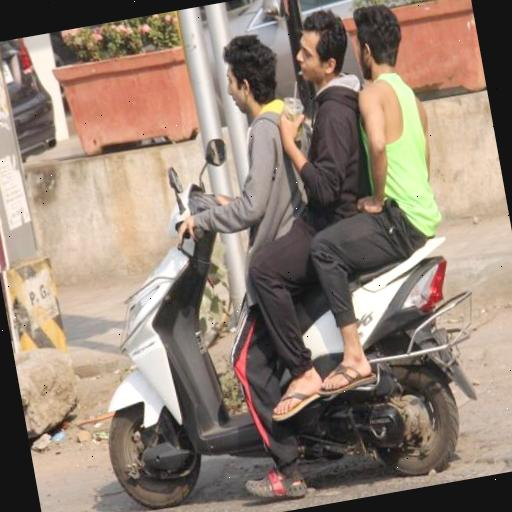no helmet: (208, 20, 293, 144)
triple riding: (155, 0, 464, 477)
